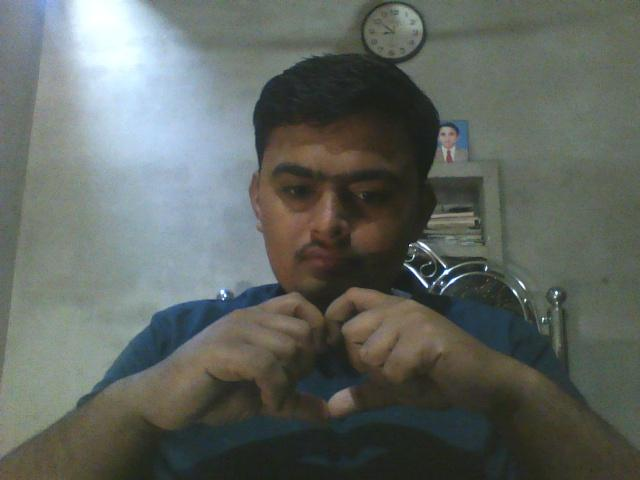IloveYou: (175, 272, 466, 437)
